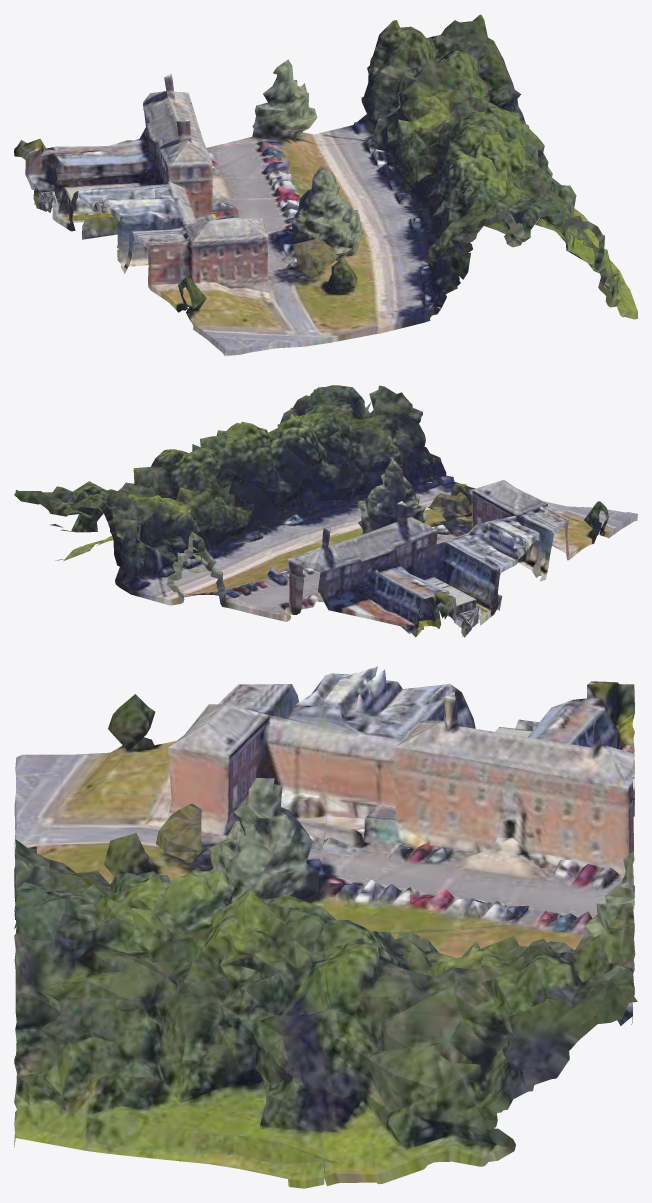
3 renders of one model, top to bottom at view 1: azimuth 30°, elevation 25°; view 2: azimuth 150°, elevation 25°; view 3: azimuth 270°, elevation 25°, orthographic. The views are drawn at different scales.
Visible parts, largest first — view 1: Mesh_0.082; view 2: Mesh_0.082; view 3: Mesh_0.082.
Part boxes in pixels (x1=…): Mesh_0.082: x1=14, y1=14, x2=637, y2=355; Mesh_0.082: x1=14, y1=385, x2=637, y2=637; Mesh_0.082: x1=14, y1=666, x2=637, y2=1188.
Size of the model in its own units: 97.59 by 32.88 by 77.26.
Materials: 2 (2 with a texture image).
